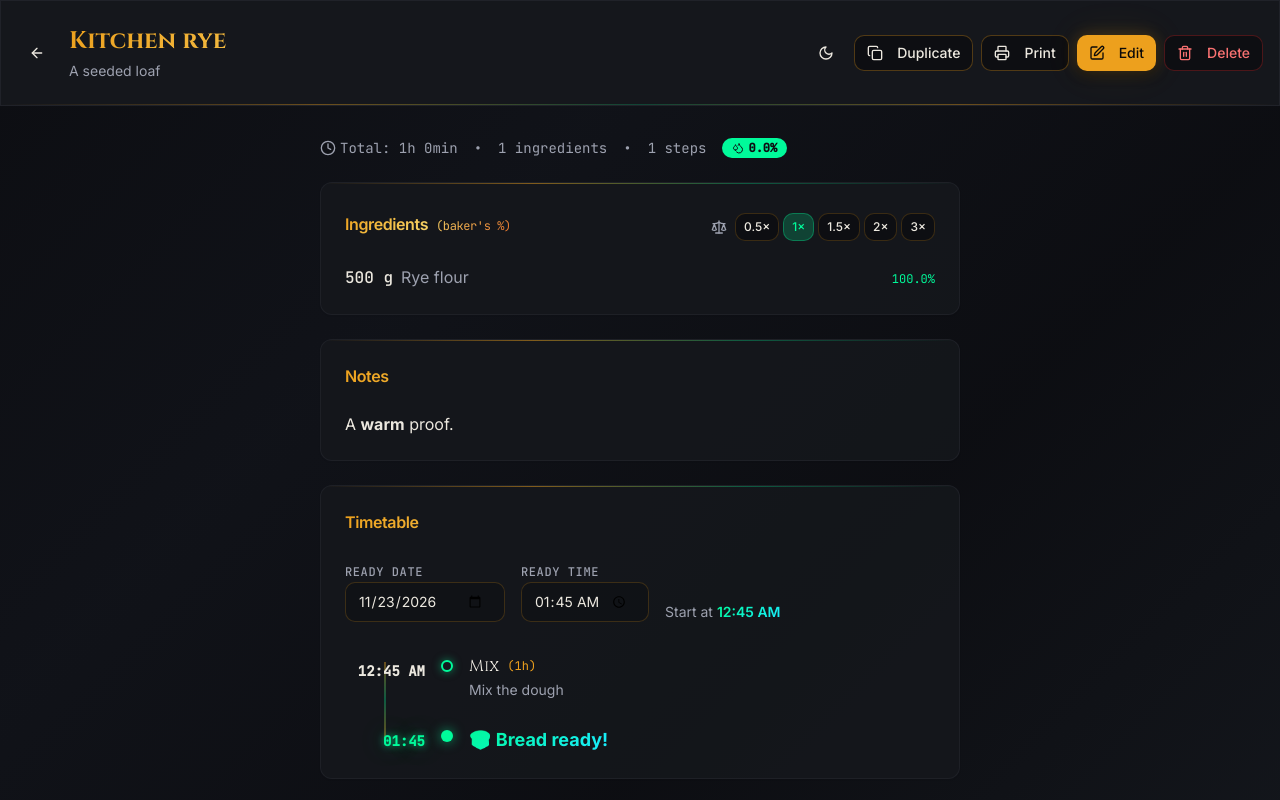
Test: duplicates a recipe without inheriting its bake history and deletes only the copy
The width and height of the screenshot is (1280, 800).
Later steps or results of the test are not shown.
Click the button "Duplicate" at x=914, y=53, box [854,35,974,71]
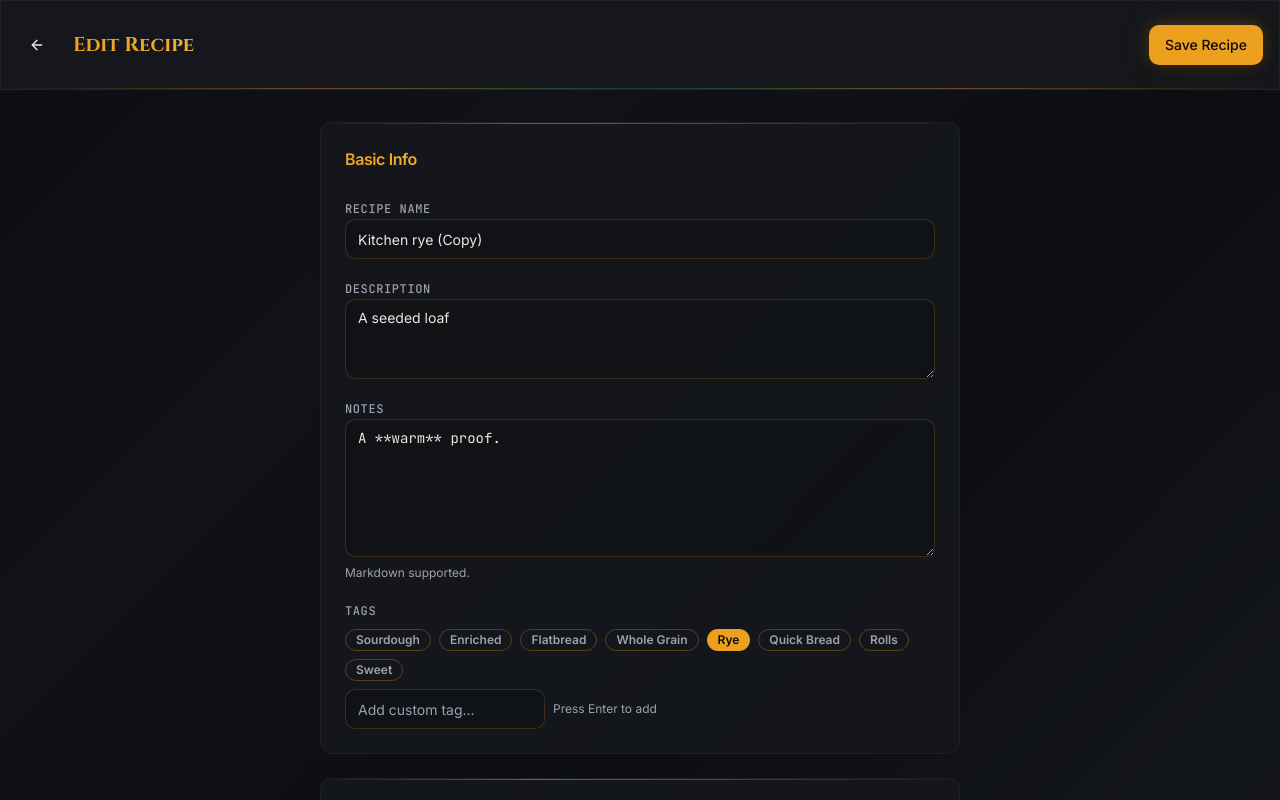
Check: the heading "Edit Recipe" is shown, box [73,31,1133,59]
Check: the field labelled "Recipe Name" holds "Kitchen rye (Copy)", box [345,219,935,259]
